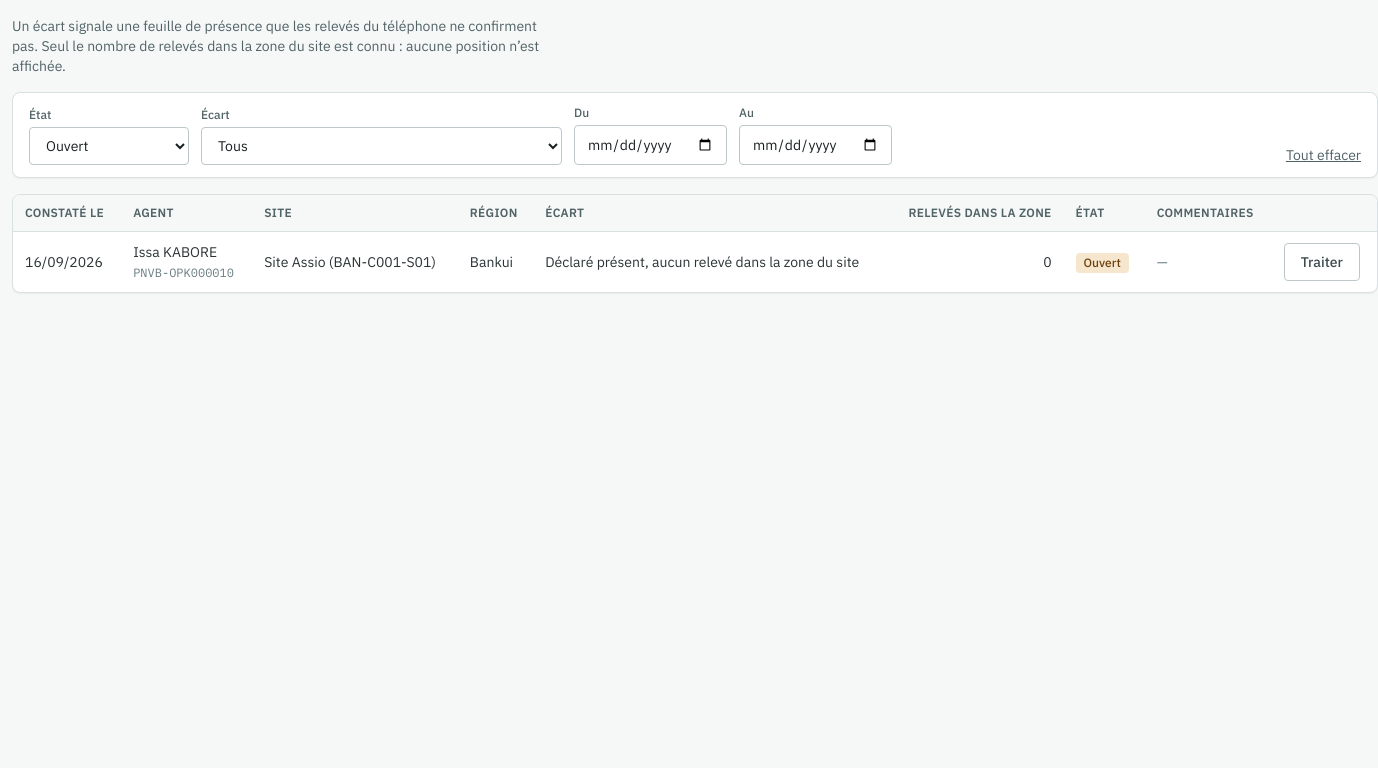
Scenario: Écarts de présence › demande un commentaire, puis traite l’écart
Click the button "Traiter". click: [1322, 262]
box: [1284,243,1360,281]
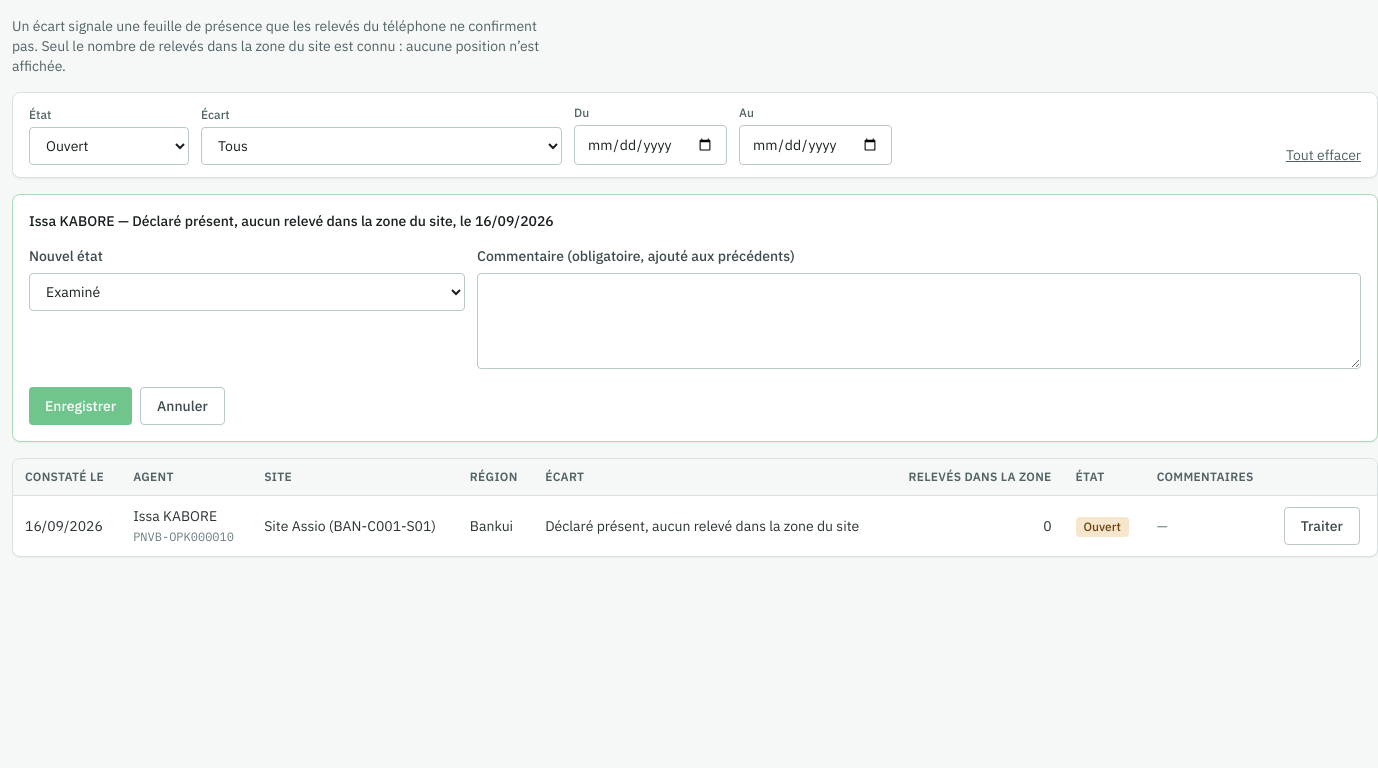
Expected: the button "Enregistrer" is disabled, [29,387,132,425]
Type "Téléphone en panne." into the text box labelled "Commentaire (obligatoire, ajouté aux précédents)". click: [919, 321]
box: [477,273,1361,369]
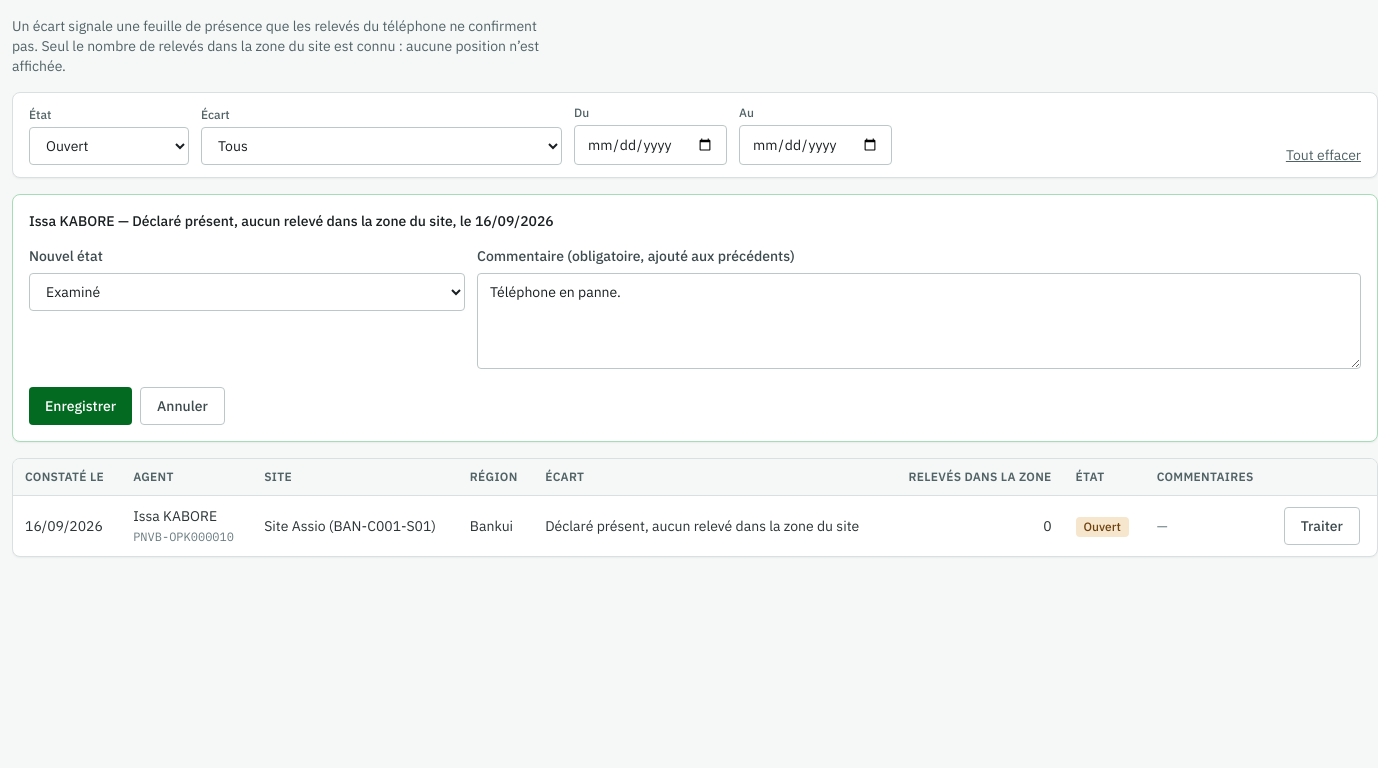
Click the button "Enregistrer". click: [81, 406]
box: [29,387,132,425]
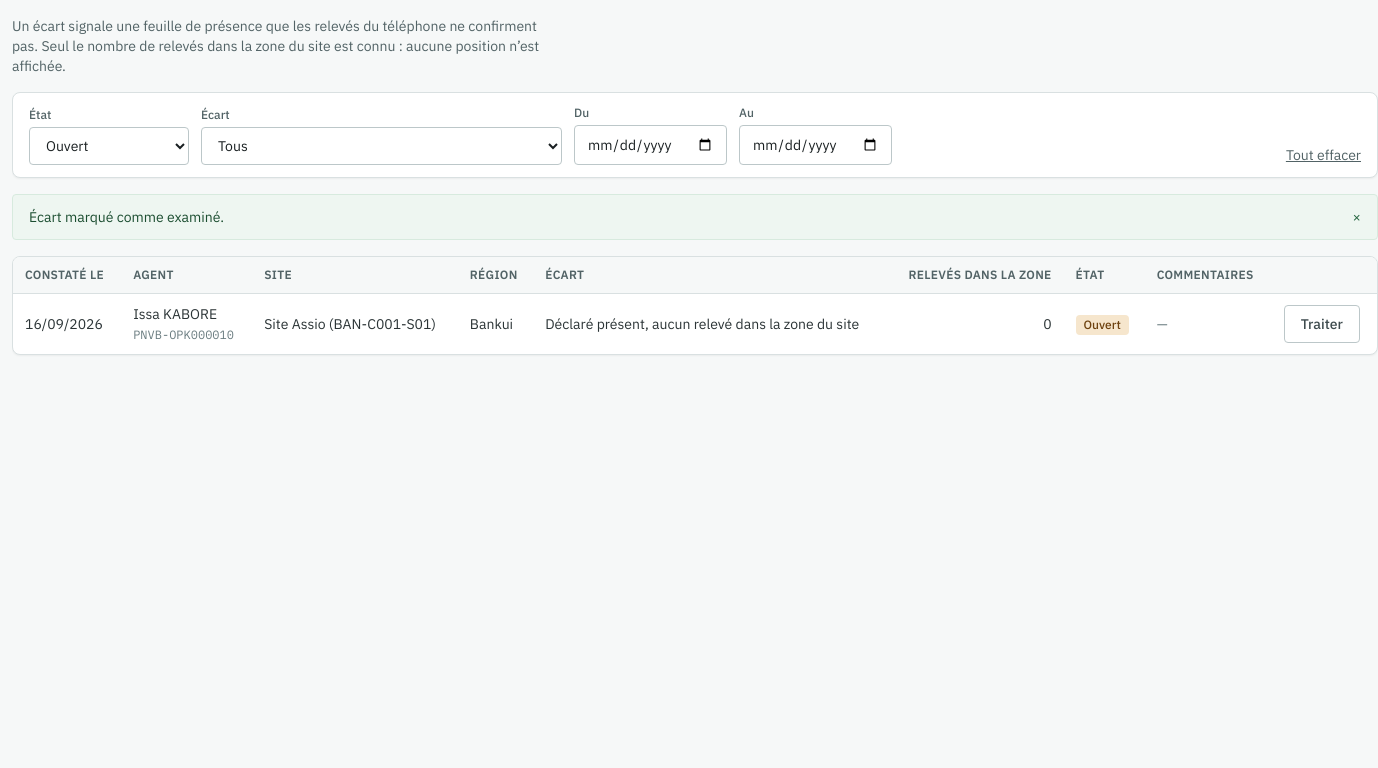
Expected: the text "Écart marqué comme examiné." is shown, [29,207,224,227]
